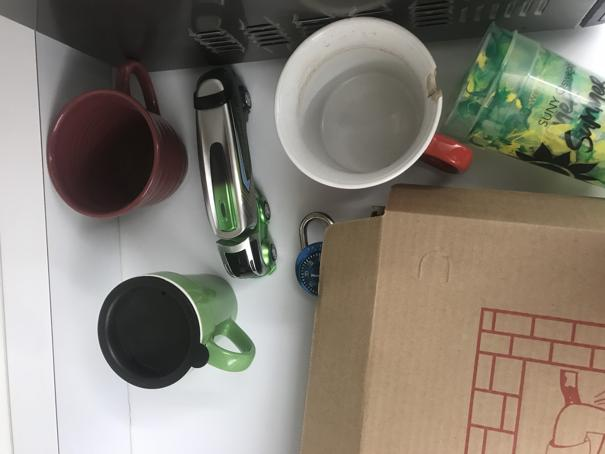Freewheel: (193, 66, 279, 280)
